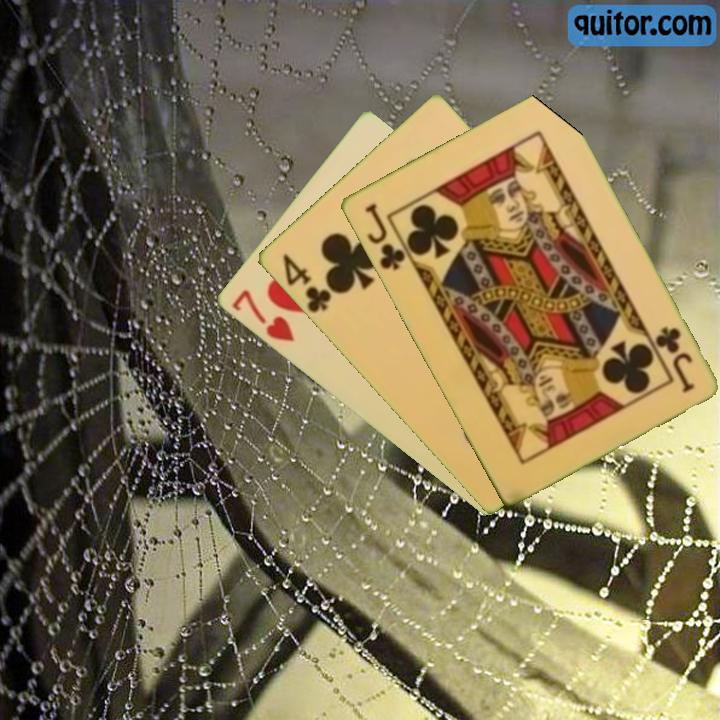4c: (278, 250, 334, 316)
7h: (228, 285, 297, 346)
Jc: (360, 200, 408, 274), (651, 322, 697, 396)
